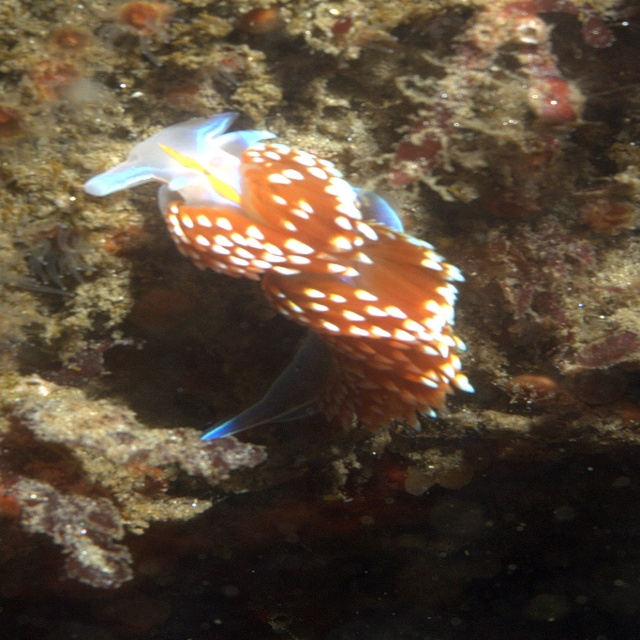Fish: (73, 109, 477, 429)
